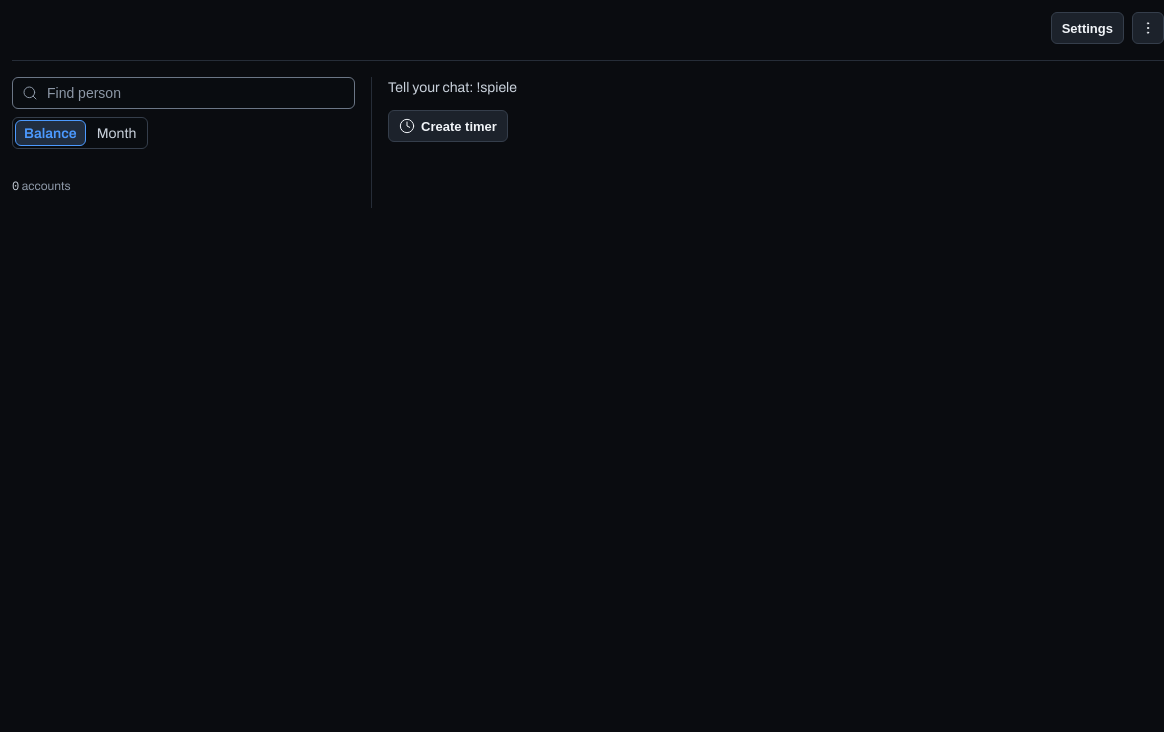
Test: points panel › disables the safety-net amount and threshold while it is off and shows the hint of the selected mode (protects=the operator cannot edit safety-net values that h
Click the button "Settings". click: coordinates (1087, 28)
box: x1=1051 y1=12 x2=1124 y2=44
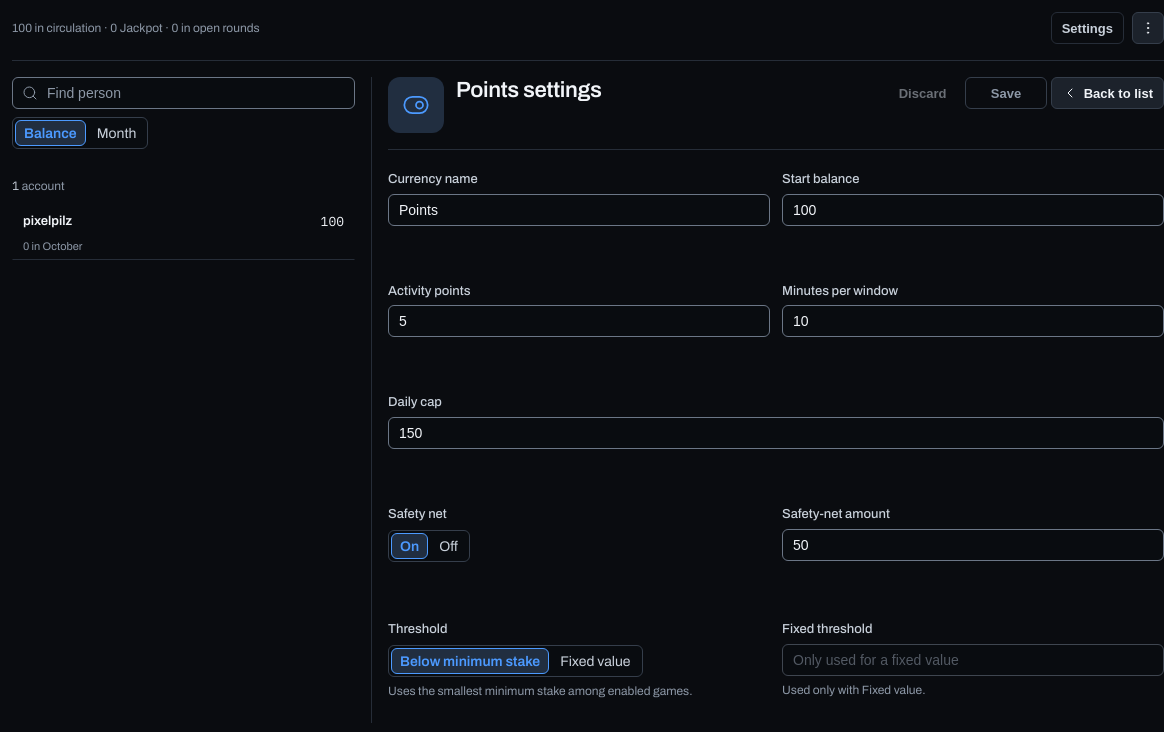
Expected: the text "Uses the fixed value on the right." is not shown
Expected: the field labelled "Safety-net amount" is enabled, x1=782 y1=529 x2=1163 y2=561
Expected: the text "Uses the smallest minimum stake among enabled games." is shown, x1=388 y1=684 x2=693 y2=698
Click the button "Fixed value". click: coordinates (595, 661)
box: x1=551 y1=648 x2=640 y2=674
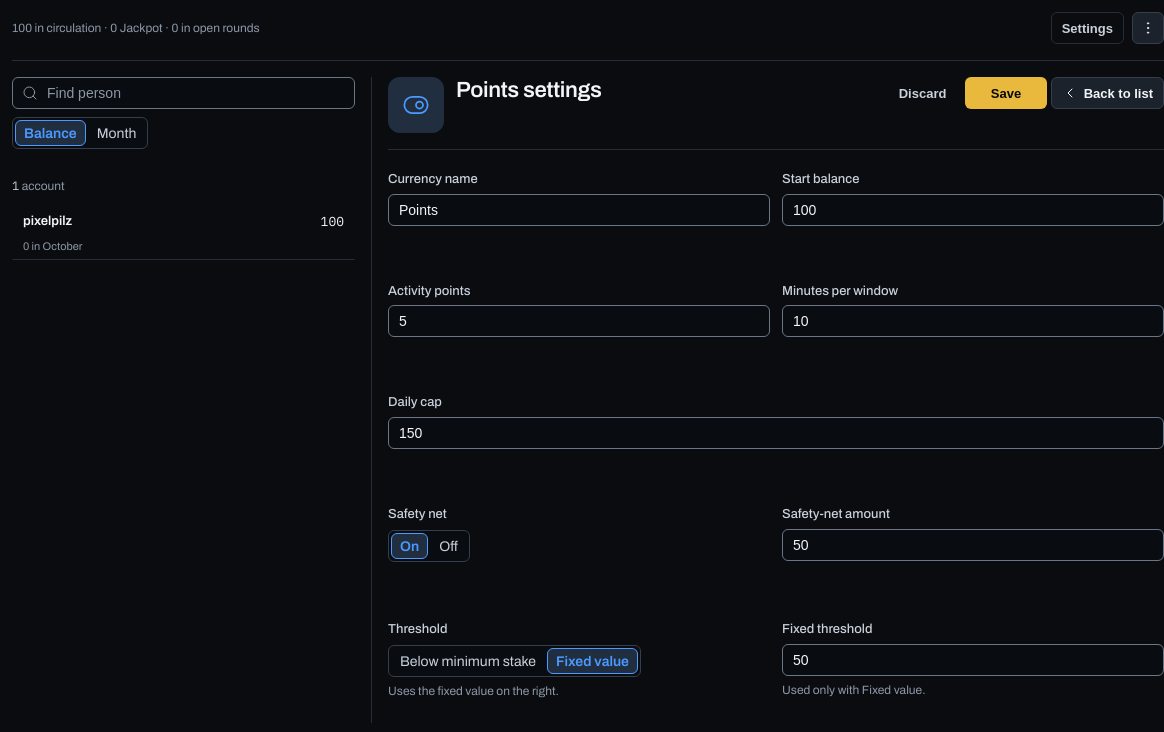
Expected: the field labelled "Fixed threshold" is enabled, x1=782 y1=644 x2=1163 y2=676
Expected: the text "Uses the fixed value on the right." is shown, x1=388 y1=684 x2=559 y2=698
Expected: the text "Uses the smallest minimum stake among enabled games." is gone
Click the button "Off". click: coordinates (448, 546)
box: x1=430 y1=533 x2=467 y2=559
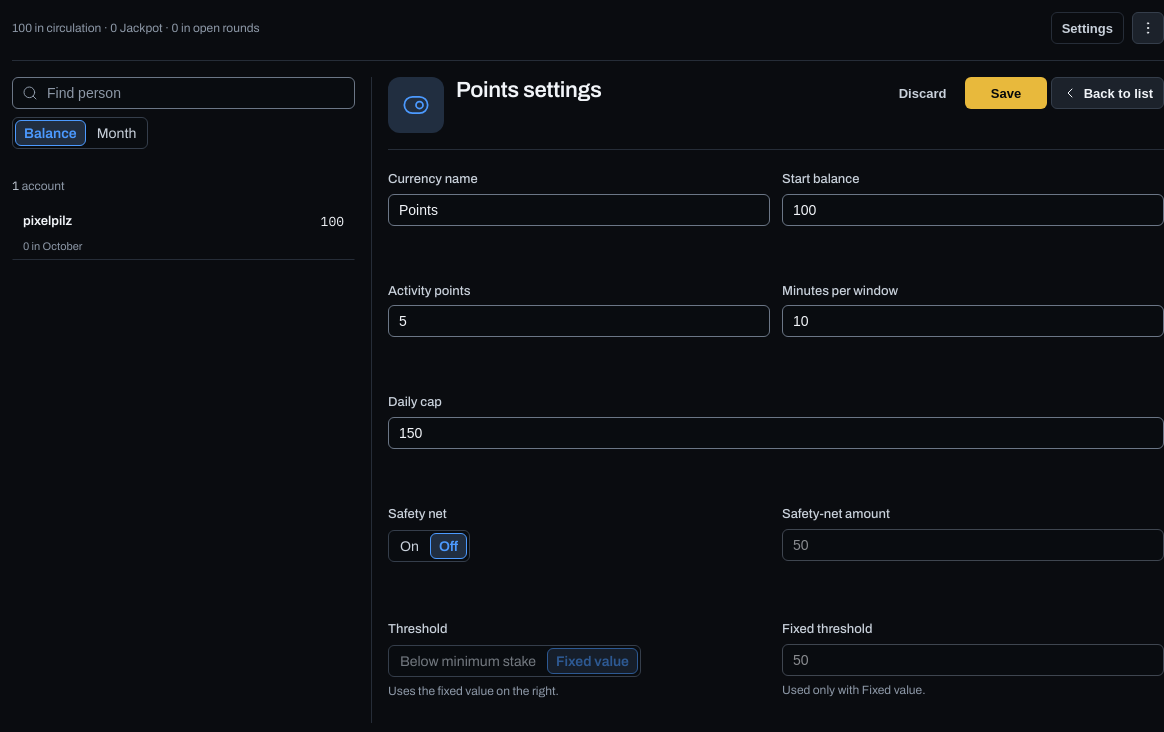
Expected: the field labelled "Safety-net amount" is disabled, x1=782 y1=529 x2=1163 y2=561
Expected: the field labelled "Fixed threshold" is disabled, x1=782 y1=644 x2=1163 y2=676
Expected: the button "Below minimum stake" is disabled, x1=391 y1=648 x2=545 y2=674
Click the button "On". click: coordinates (409, 546)
box: x1=391 y1=533 x2=428 y2=559
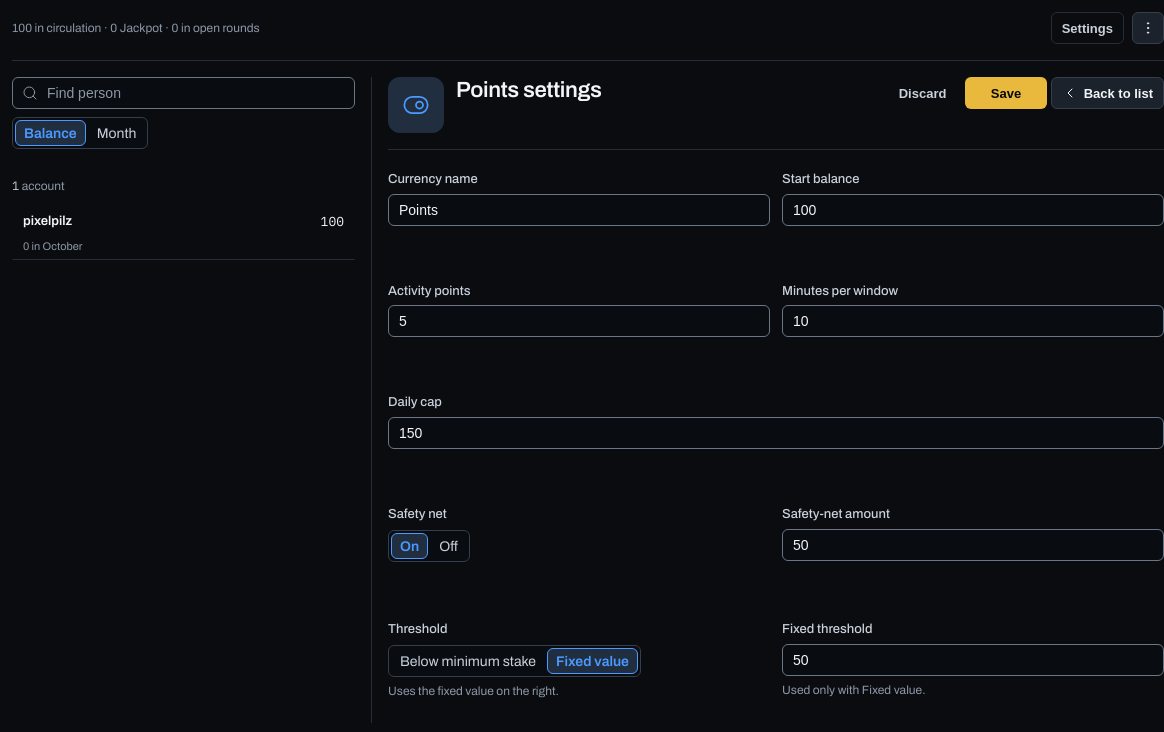
Expected: the field labelled "Safety-net amount" is enabled, x1=782 y1=529 x2=1163 y2=561
Expected: the field labelled "Fixed threshold" is enabled, x1=782 y1=644 x2=1163 y2=676
